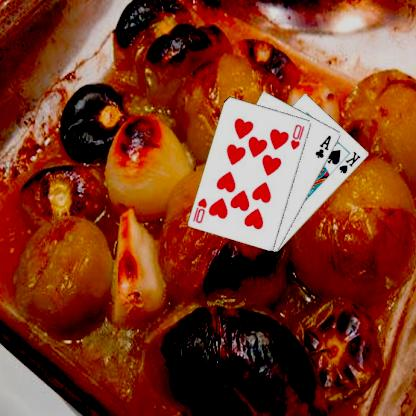10H: (290, 122, 308, 151), (192, 196, 210, 224)
AC: (314, 133, 334, 159)
KS: (338, 149, 364, 175)
